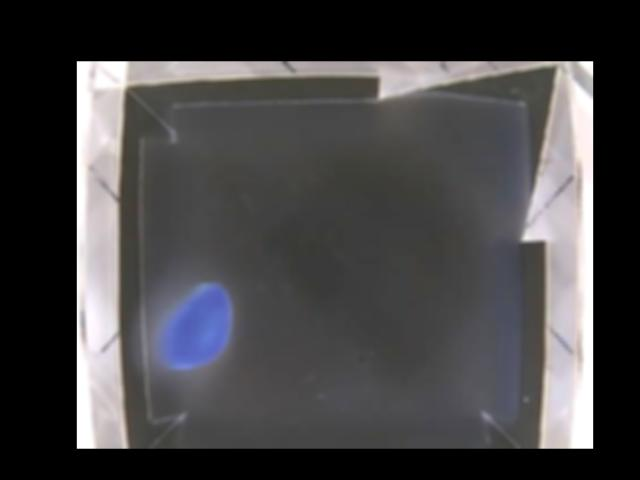Potato: (157, 283, 232, 370)
